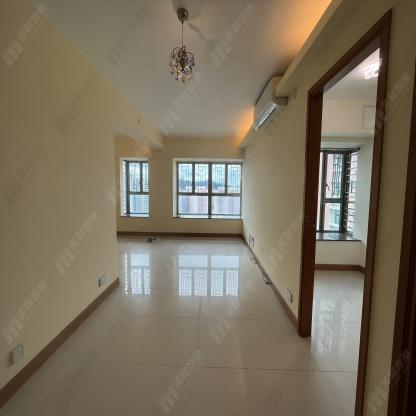AC: (253, 76, 288, 131)
